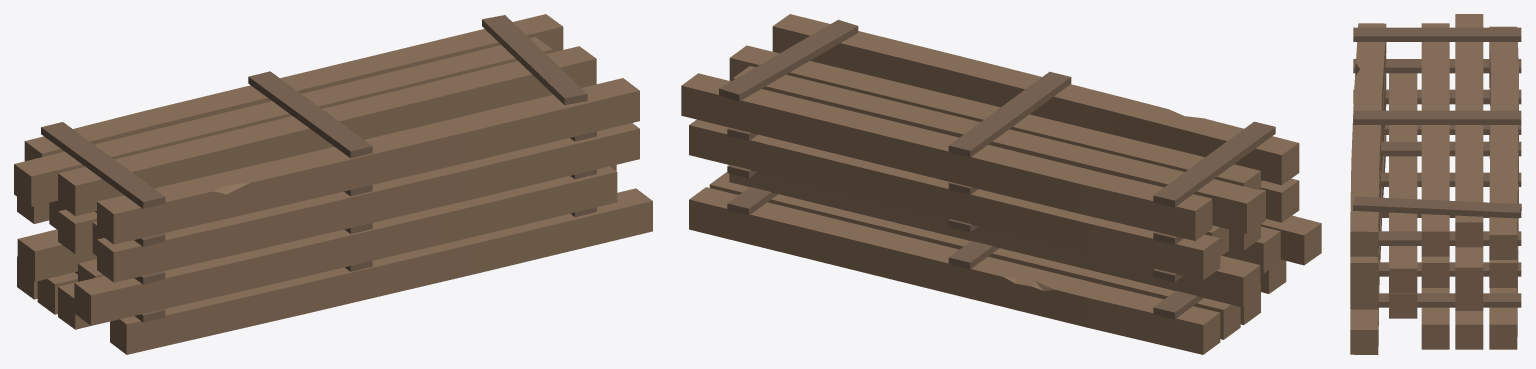
File: Wh_Wooden_Beams.fbx
3 views of the same model, side by side, from view 1: azimuth 30°, elevation 25°; view 2: azimuth 150°, elevation 25°; view 3: azimuth 270°, elevation 25° (orthographic). The views are drawn at different scales.
Parts seen in each view (by area): view 1: Cube.1015; view 2: Cube.1015; view 3: Cube.1015.
Boxes of the visible parts, x1,y1,x2,y2 form: Cube.1015: (14,14,652,354); Cube.1015: (681,14,1321,354); Cube.1015: (1350,14,1521,354).
Size of the model in its own units: 751 by 195 by 244.
